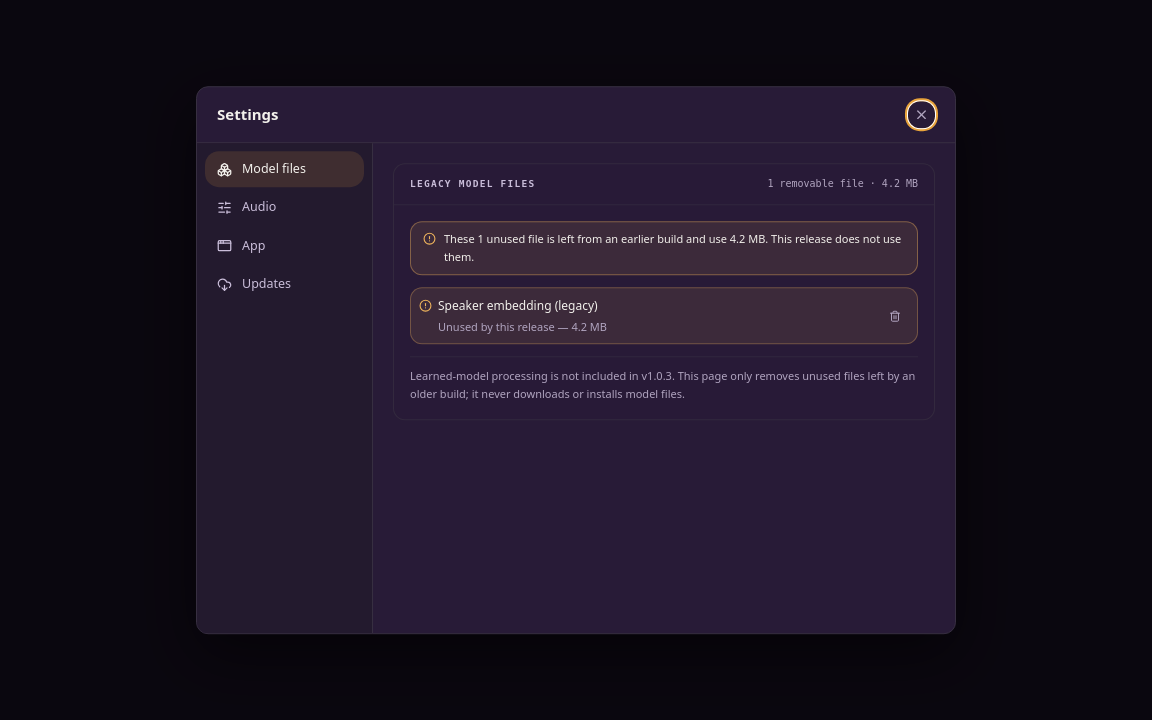
Test case: SettingsPanel release boundaries › removes an installed legacy file through the cleanup-only command
This screenshot has width=1152, height=720.
What coordinates should you click on to do the following:
click the button named "Delete Speaker embedding (legacy)"
I would click on:
 (895, 316)
Its box is top-left (881, 302), bottom-right (909, 330).
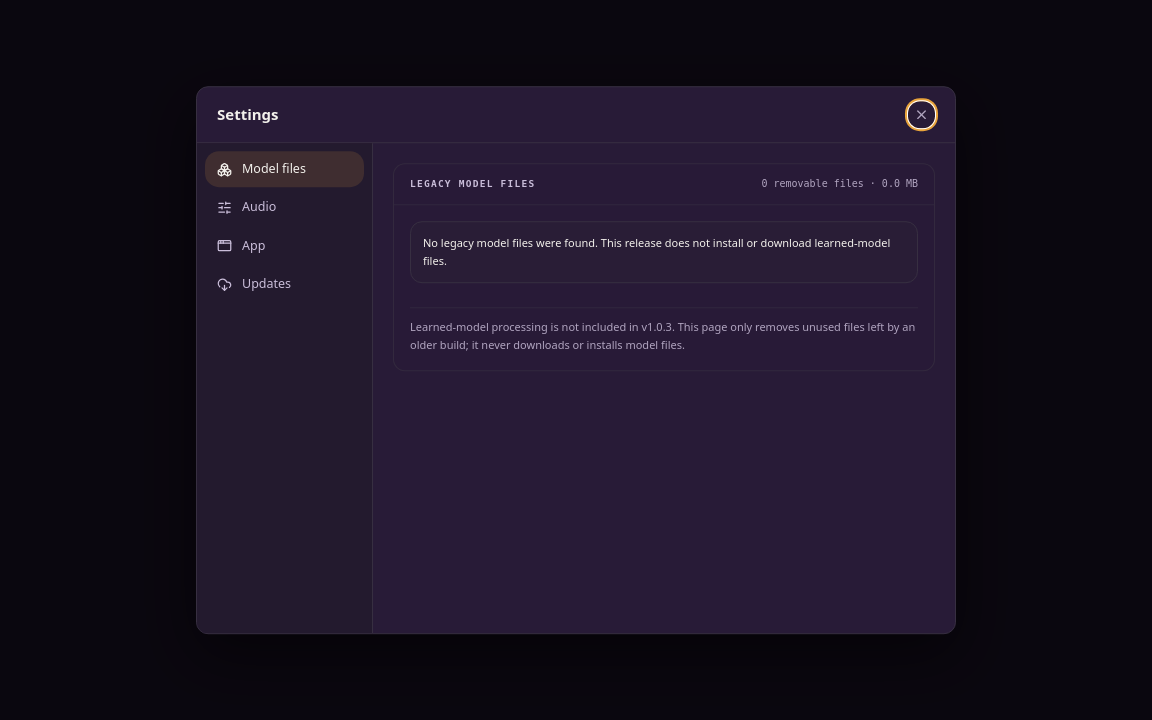
Expected: the text "No legacy model files were found" is shown, top-left (423, 236), bottom-right (890, 268)
